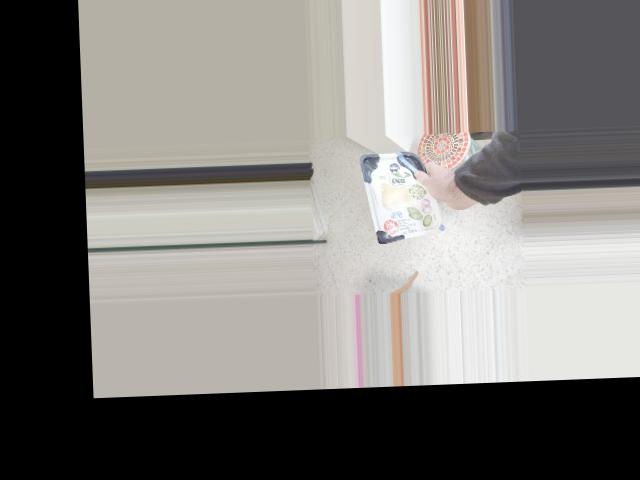cheese: (383, 164, 457, 234)
